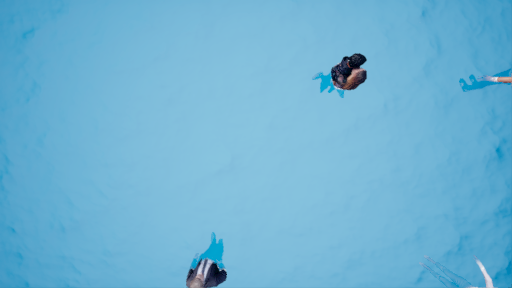person: (172, 227, 236, 287), (308, 46, 373, 102), (456, 54, 512, 93)
